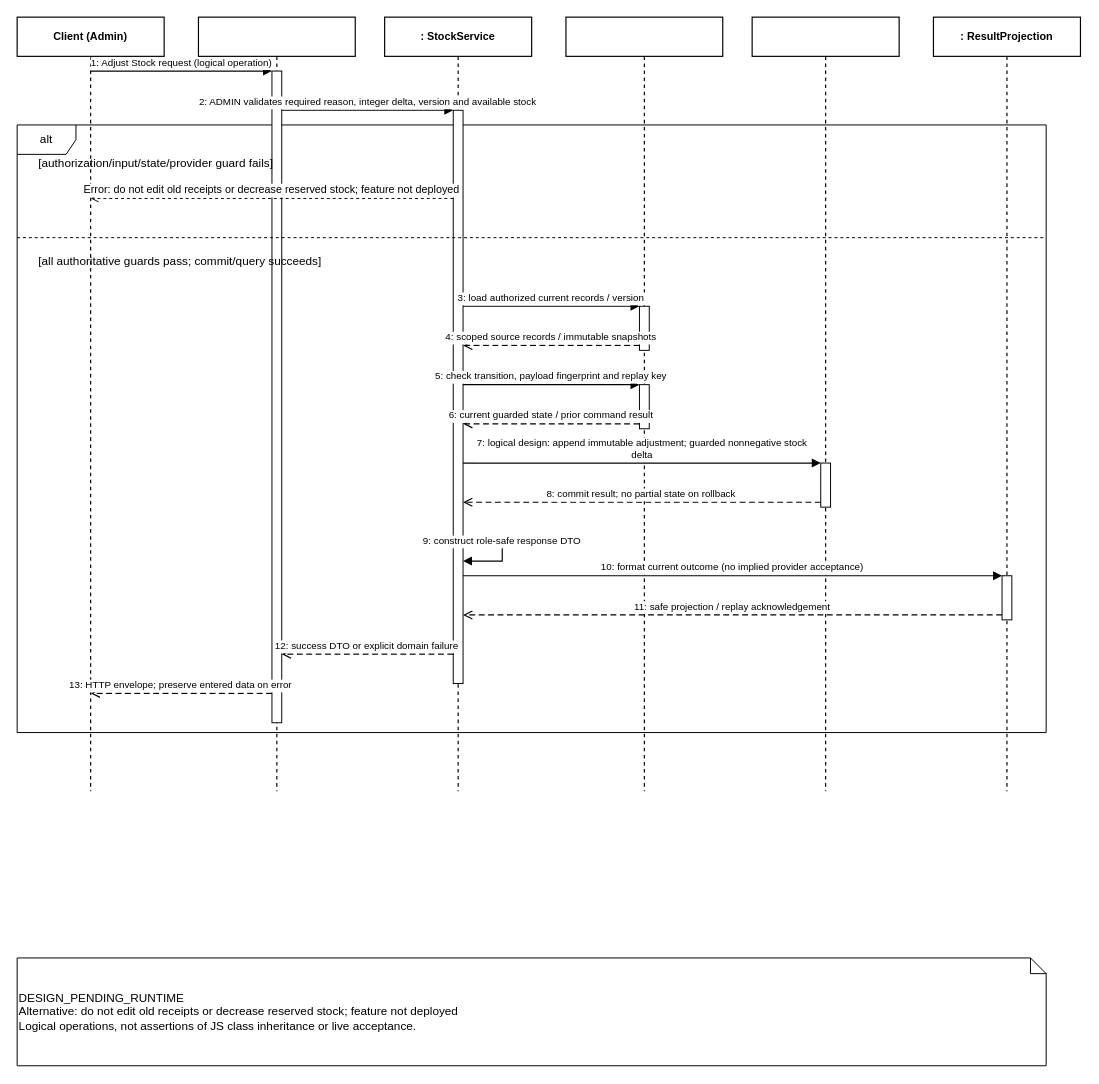
Image size: 1099x1084. Some labels were removed from this diagram. The box of each missing label's shape, as (x1, y1, x2, y2) in pixels:
: ReadRepository: (565, 16, 723, 791)
: StockHttpBoundary: (197, 16, 355, 791)
: TransactionRepository: (751, 16, 899, 791)
